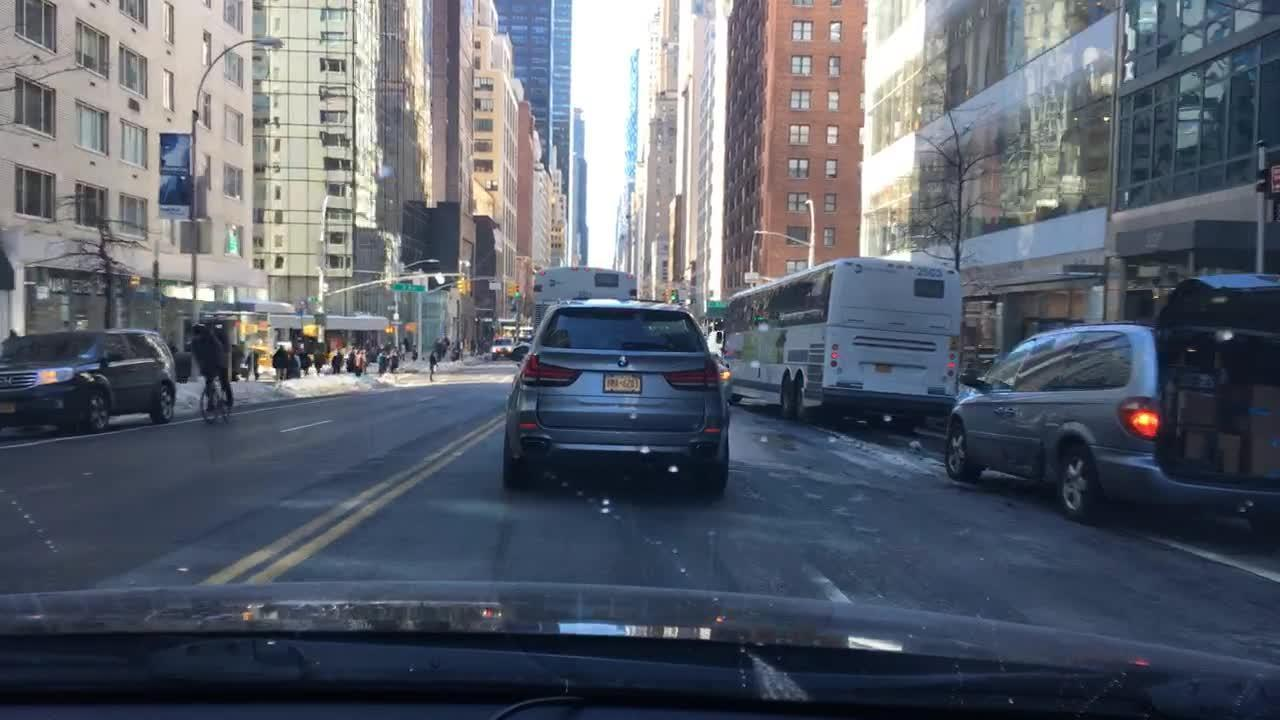bmw: (611, 352, 639, 373)
